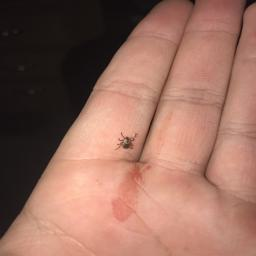Dermacentor variabilis: (115, 129, 139, 155)
